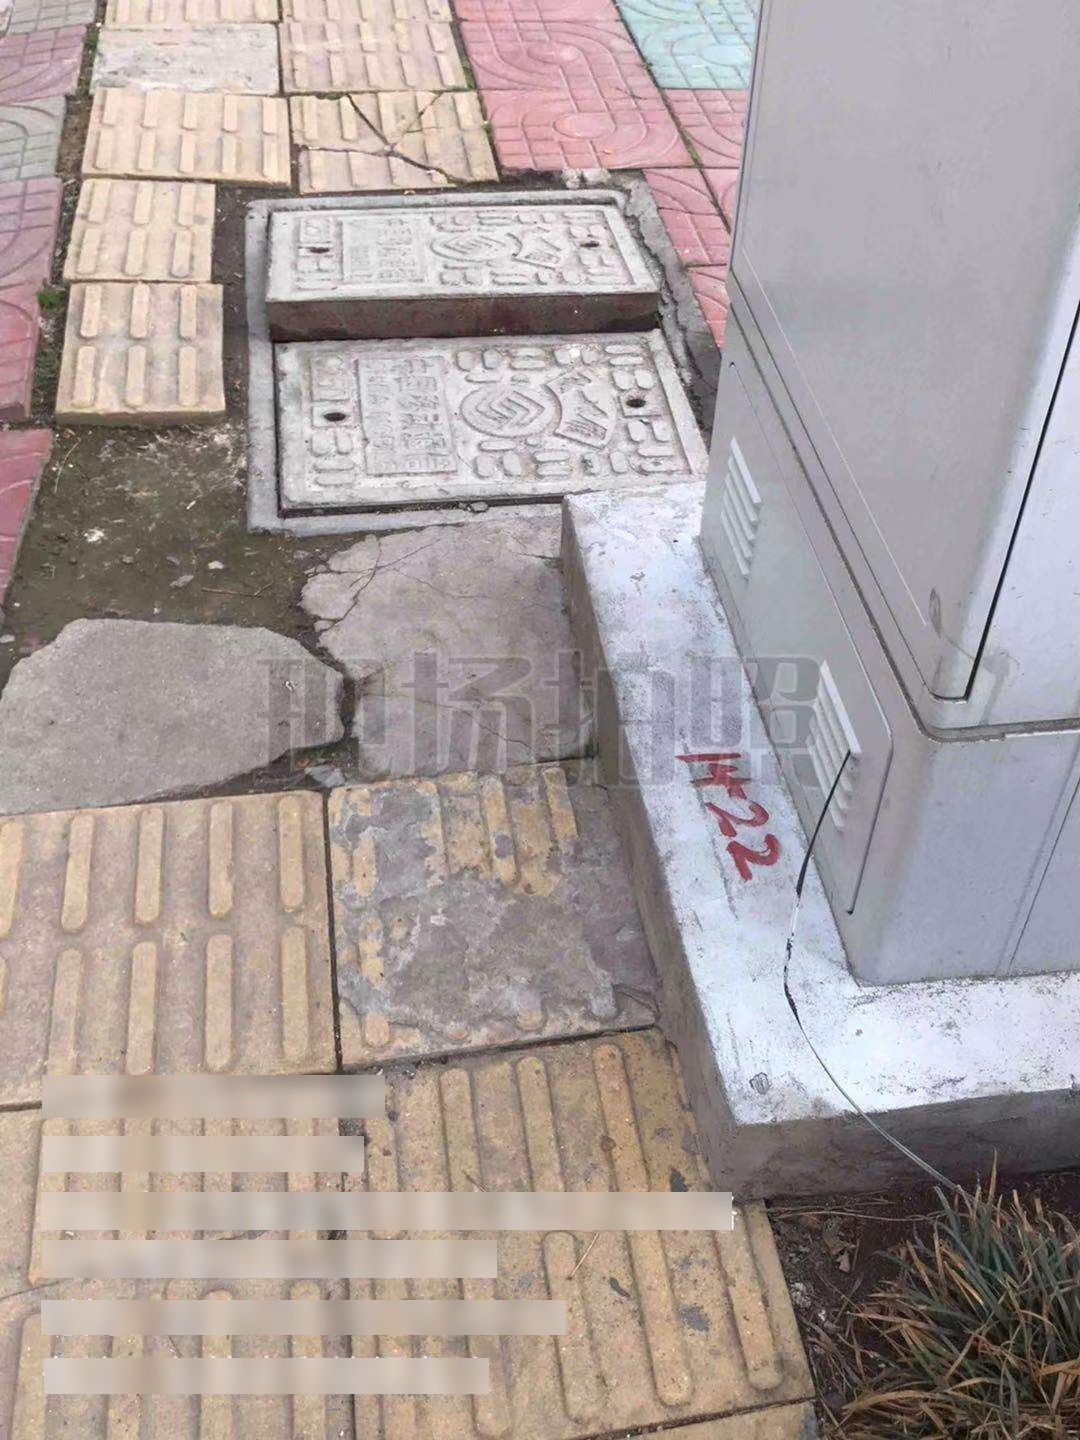uncovered: (244, 190, 714, 535)
